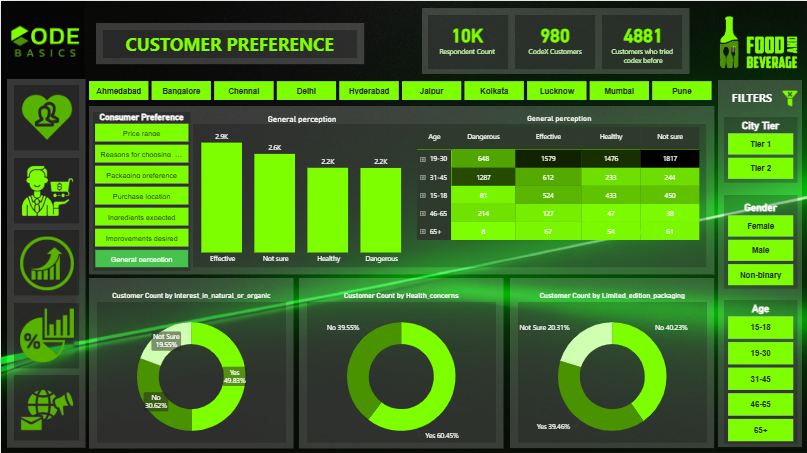

What the dashboard file says about the page in this screenshot:
{"tool":"powerbi","page":{"name":"consumer preference","canvas":[1920,1080],"ordinal":1},"visuals":[{"type":"shape","box":[1003.4,17,637,157],"z":0,"group":"g5"},{"type":"shape","box":[226.1,51.2,638.6,98],"z":0,"group":"g4"},{"type":"shape","box":[14,185,187,878],"z":0,"group":"g7"},{"type":"shape","box":[1706.7,189,200.3,874.4],"z":0,"group":"g8"},{"type":"shape","box":[209.7,249.6,1489.1,401.1],"z":0,"group":"g2"},{"type":"group","id":"g1","title":"Group 1","box":[209.1,659.2,487,419.6],"z":0},{"type":"shape","box":[209.1,659.2,487,406],"z":0,"group":"g1"},{"type":"shape","box":[1212,659.2,486.4,405.3],"z":0,"group":"g6"},{"type":"shape","box":[710.4,660,487,406],"z":0,"group":"g3"},{"type":"shape","box":[1432.9,32.8,190.7,129],"z":1000,"group":"g5"},{"type":"shape","box":[242.9,66.8,605,66.8],"z":1000,"group":"g4"},{"type":"group","id":"g2","title":"Group 3","box":[209.7,249.6,1489.1,401.1],"z":1000},{"type":"shape","box":[1721.2,278.1,175.3,156.5],"z":1000,"group":"g8"},{"type":"shape","box":[457.8,293.1,1222.4,341.3],"z":1000,"group":"g2"},{"type":"image","box":[39.4,553.2,138.3,139.7],"z":1000,"group":"g7"},{"type":"shape","box":[227.6,715.8,450,335],"z":1000,"group":"g1"},{"type":"shape","box":[1230.2,716,450,335],"z":1000,"group":"g6"},{"type":"shape","box":[728.9,717,450,335],"z":1000,"group":"g3"},{"type":"pivotTable","fields":{"Columns":["fact_survey_responses.General_perception"],"Values":["CountNonNull(dim_repondents.Respondent_ID)"],"Rows":["dim_repondents.Age","dim_repondents.Gender"]},"box":[986.9,269.7,686.9,386.1],"z":1500},{"type":"card","fields":{"Values":["Key Measures.Customers who tried codex before"]},"box":[1443,0,171.8,175],"z":2000,"group":"g5"},{"type":"textbox","box":[253.3,66.7,584.2,67],"z":2000,"group":"g4"},{"type":"advancedSlicerVisual","fields":{"Values":["dim_cities.City"]},"box":[205.4,185.6,1497.6,55.5],"z":2000},{"type":"columnChart","fields":{"Category":["fact_survey_responses.General_perception"],"Y":["CountNonNull(dim_repondents.Respondent_ID)"]},"box":[421.5,269.7,590.9,364.8],"z":2000,"group":"g2"},{"type":"donutChart","fields":{"Category":["fact_survey_responses.Interest_in_natural_or_organic"],"Y":["CountNonNull(dim_repondents.Respondent_ID)"]},"box":[209.1,690.3,487,388.5],"z":2000,"group":"g1"},{"type":"donutChart","fields":{"Y":["CountNonNull(dim_repondents.Respondent_ID)"],"Category":["fact_survey_responses.Limited_edition_packaging"]},"box":[1211.7,690.5,487,388.5],"z":2000,"group":"g6"},{"type":"donutChart","fields":{"Y":["CountNonNull(dim_repondents.Respondent_ID)"],"Category":["fact_survey_responses.Health_concerns"]},"box":[710.4,691.5,487,388.5],"z":2000,"group":"g3"},{"type":"shape","box":[1721.2,712.2,175.3,342.3],"z":2000,"group":"g8"},{"type":"image","box":[39.4,726,138.3,139.7],"z":2000,"group":"g7"},{"type":"shape","box":[1224.8,32.8,190.7,129],"z":3000,"group":"g5"},{"type":"image","box":[39.4,207.5,138.3,139.7],"z":3000,"group":"g7"},{"type":"shape","box":[1721.2,463.8,175.3,223.3],"z":3000,"group":"g8"},{"type":"card","fields":{"Values":["Key Measures.Measure 2"]},"box":[1234.2,0,171.6,175],"z":4000,"group":"g5"},{"type":"advancedSlicerVisual","fields":{"Values":["Consumer Preference.Consumer Preference"]},"box":[219.7,262.8,232,378],"z":4000,"group":"g2"},{"type":"advancedSlicerVisual","title":"City Tier","fields":{"Values":["dim_cities.Tier"]},"box":[1726.5,284.8,165.1,145.7],"z":4000,"group":"g8"},{"type":"image","box":[39.4,898.8,138.3,139.7],"z":4000,"group":"g7"},{"type":"shape","box":[1016.6,32.8,190.7,129],"z":5000,"group":"g5"},{"type":"shape","box":[30.3,199.5,155,155.9],"z":5000,"group":"g7"},{"type":"advancedSlicerVisual","fields":{"Values":["dim_repondents.Gender"]},"box":[1726.5,478.6,165.1,204.4],"z":5000,"group":"g8"},{"type":"group","id":"g3","title":"Group 1","box":[710.4,660,487,420],"z":5000},{"type":"card","fields":{"Values":["CountNonNull(dim_repondents.Respondent_ID)"]},"box":[1025.4,0,171.6,175],"z":6000,"group":"g5"},{"type":"group","id":"g4","title":"Group 5","box":[226.1,51.2,637.9,98.1],"z":6000},{"type":"shape","box":[30,545.1,155,155.9],"z":6000,"group":"g7"},{"type":"advancedSlicerVisual","fields":{"Values":["dim_repondents.Age"]},"box":[1726.5,720.1,165.1,336.9],"z":6000,"group":"g8"},{"type":"image","box":[10.7,17.1,187.7,157.9],"z":7000},{"type":"textbox","box":[1728,207.4,119.5,53.3],"z":7000,"group":"g8"},{"type":"shape","box":[30,717.9,155,155.9],"z":7000,"group":"g7"},{"type":"image","box":[1689.6,17.1,230.4,166.4],"z":8000},{"type":"image","box":[1849.6,207.2,57.6,49.1],"z":8000,"group":"g8"},{"type":"shape","box":[30.3,890.7,155,155.9],"z":8000,"group":"g7"},{"type":"group","id":"g5","title":"Group 6","box":[1003.4,0,637,175],"z":9000},{"type":"shape","box":[30,372.3,155,155.9],"z":9000,"group":"g7"},{"type":"image","box":[39.4,380.3,138.3,139.7],"z":10000,"group":"g7"},{"type":"group","id":"g6","title":"Group 1","box":[1211.7,659.2,486.4,420.3],"z":10000},{"type":"group","id":"g7","title":"Group 4","box":[14,185,187,878],"z":11000},{"type":"group","id":"g8","title":"Group 2","box":[1706.7,189,200.5,874.4],"z":12000}]}

Visuals, with their boxes in screenshot pixels (x1, y1, x2, y2), scaled from the page's 1920x1080 canvas onto the 807x453 screenshot:
shape: rect(422, 7, 689, 73)
shape: rect(95, 21, 363, 63)
shape: rect(6, 78, 84, 446)
shape: rect(717, 79, 802, 446)
shape: rect(88, 105, 714, 273)
"Group 1" group: rect(88, 276, 293, 452)
shape: rect(88, 276, 293, 447)
shape: rect(509, 276, 714, 446)
shape: rect(299, 277, 503, 447)
shape: rect(602, 14, 682, 68)
shape: rect(102, 28, 356, 56)
"Group 3" group: rect(88, 105, 714, 273)
shape: rect(723, 117, 797, 182)
shape: rect(192, 123, 706, 266)
image: rect(17, 232, 75, 291)
shape: rect(96, 300, 285, 441)
shape: rect(517, 300, 706, 441)
shape: rect(306, 301, 496, 441)
pivotTable - fact_survey_responses.General_perception x CountNonNull(dim_repondents.Respondent_ID): rect(415, 113, 704, 275)
card - Key Measures.Customers who tried codex before: rect(607, 0, 679, 73)
textbox: rect(106, 28, 352, 56)
advancedSlicerVisual - dim_cities.City: rect(86, 78, 716, 101)
columnChart - fact_survey_responses.General_perception x CountNonNull(dim_repondents.Respondent_ID): rect(177, 113, 426, 266)
donutChart - fact_survey_responses.Interest_in_natural_or_organic x CountNonNull(dim_repondents.Respondent_ID): rect(88, 290, 293, 452)
donutChart - CountNonNull(dim_repondents.Respondent_ID) x fact_survey_responses.Limited_edition_packaging: rect(509, 290, 714, 452)
donutChart - CountNonNull(dim_repondents.Respondent_ID) x fact_survey_responses.Health_concerns: rect(299, 290, 503, 452)
shape: rect(723, 299, 797, 442)
image: rect(17, 305, 75, 363)
shape: rect(515, 14, 595, 68)
image: rect(17, 87, 75, 146)
shape: rect(723, 195, 797, 288)
card - Key Measures.Measure 2: rect(519, 0, 591, 73)
advancedSlicerVisual - Consumer Preference.Consumer Preference: rect(92, 110, 190, 269)
"City Tier" advancedSlicerVisual: rect(726, 119, 795, 181)
image: rect(17, 377, 75, 436)
shape: rect(427, 14, 507, 68)
shape: rect(13, 84, 78, 149)
advancedSlicerVisual - dim_repondents.Gender: rect(726, 201, 795, 286)
"Group 1" group: rect(299, 277, 503, 452)
card - CountNonNull(dim_repondents.Respondent_ID): rect(431, 0, 503, 73)
"Group 5" group: rect(95, 21, 363, 63)
shape: rect(13, 229, 78, 294)
advancedSlicerVisual - dim_repondents.Age: rect(726, 302, 795, 443)
image: rect(4, 7, 83, 73)
textbox: rect(726, 87, 777, 109)
shape: rect(13, 301, 78, 367)
image: rect(710, 7, 806, 77)
image: rect(777, 87, 802, 108)
shape: rect(13, 374, 78, 439)
"Group 6" group: rect(422, 0, 689, 73)
shape: rect(13, 156, 78, 222)
image: rect(17, 160, 75, 218)
"Group 1" group: rect(509, 276, 714, 452)
"Group 4" group: rect(6, 78, 84, 446)
"Group 2" group: rect(717, 79, 802, 446)
